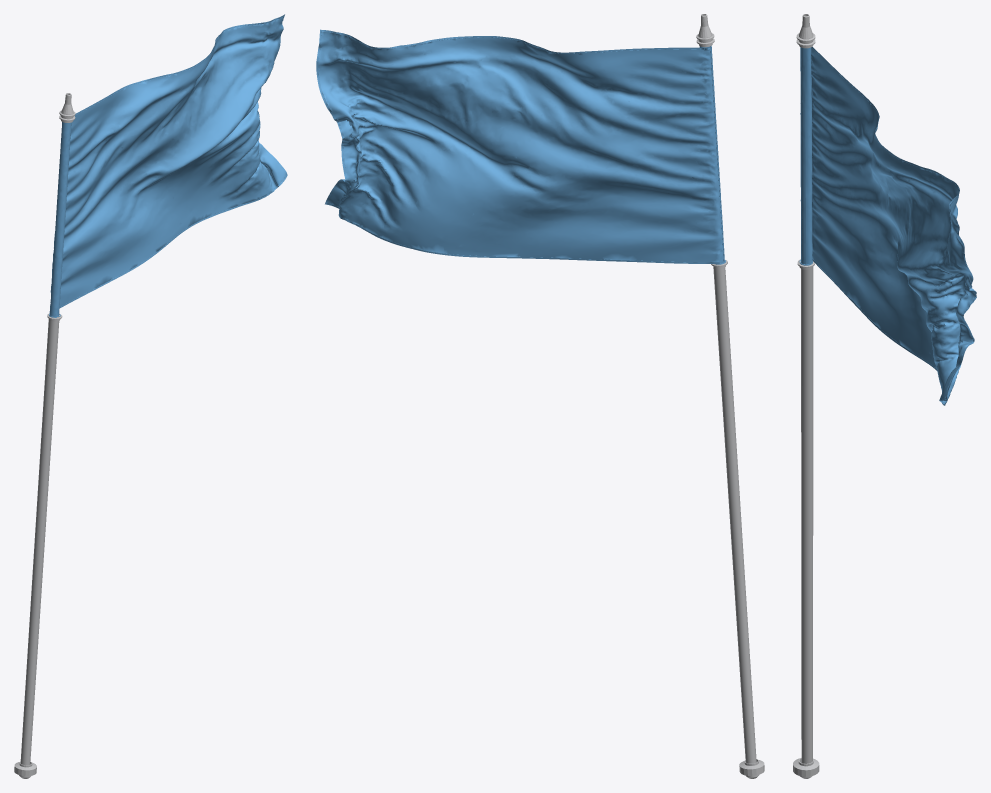
The model's file is playerFlag2.fbx.
The picture shows the model from 3 angles, left to right: view 1: azimuth 30°, elevation 25°; view 2: azimuth 150°, elevation 25°; view 3: azimuth 270°, elevation 25°; orthographic projection. The views are drawn at different scales.
Visible parts, largest first — view 1: flag_obj; view 2: flag_obj; view 3: flag_obj.
Part boxes in pixels (box(x1,y1,x2,y2)): flag_obj: box(14, 14, 287, 778); flag_obj: box(316, 14, 764, 778); flag_obj: box(793, 14, 976, 778).
Size of the model in its own units: 373 by 719 by 152.
